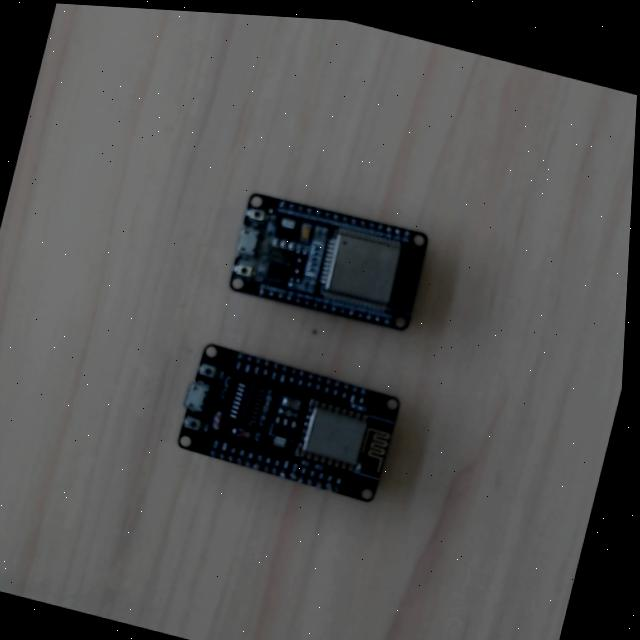ESP32-DevKit: (227, 192, 431, 331)
ESP8266-NodeMCU: (172, 340, 404, 504)
